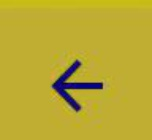ImgButton: (1, 1, 151, 139)
